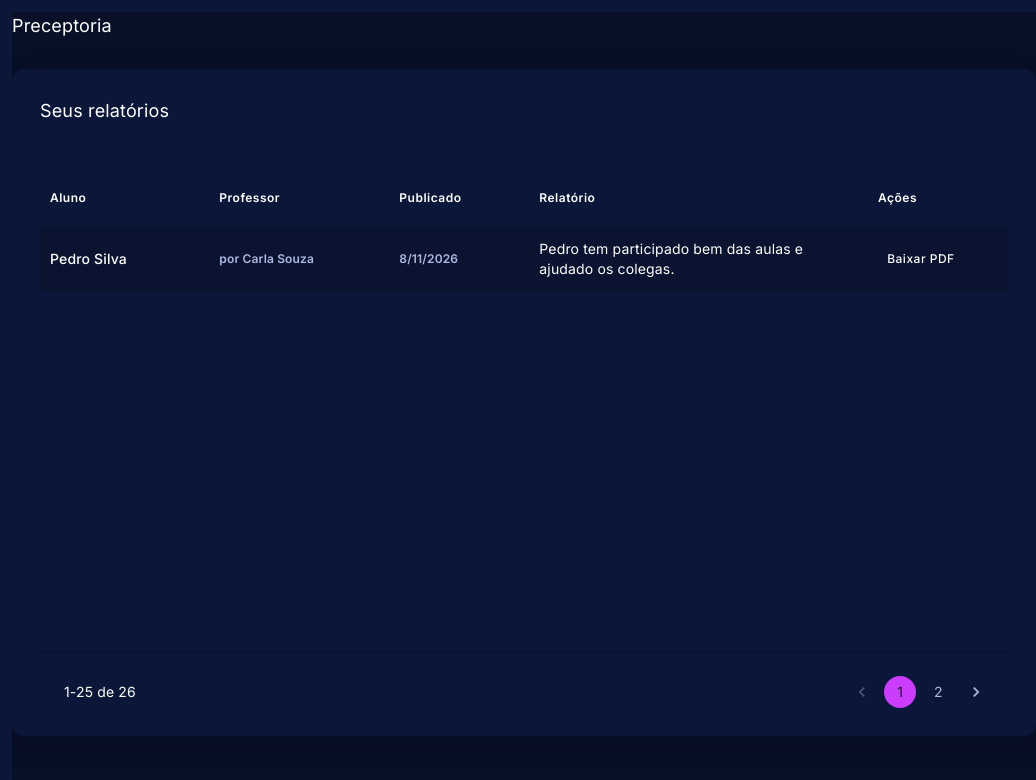
Test: Preceptorship, as the family reads it › asks for the next page and counts every published report
The width and height of the screenshot is (1036, 780).
Expected: the text "Pedro Silva" is shown, [50, 248, 127, 270]
Expected: the text "1-25 de 26" is shown, [64, 682, 136, 702]
What coordinates should you click on to do the following:
click the button named "go to page 2"
I would click on:
 (938, 692)
Its box is [922, 676, 954, 708].
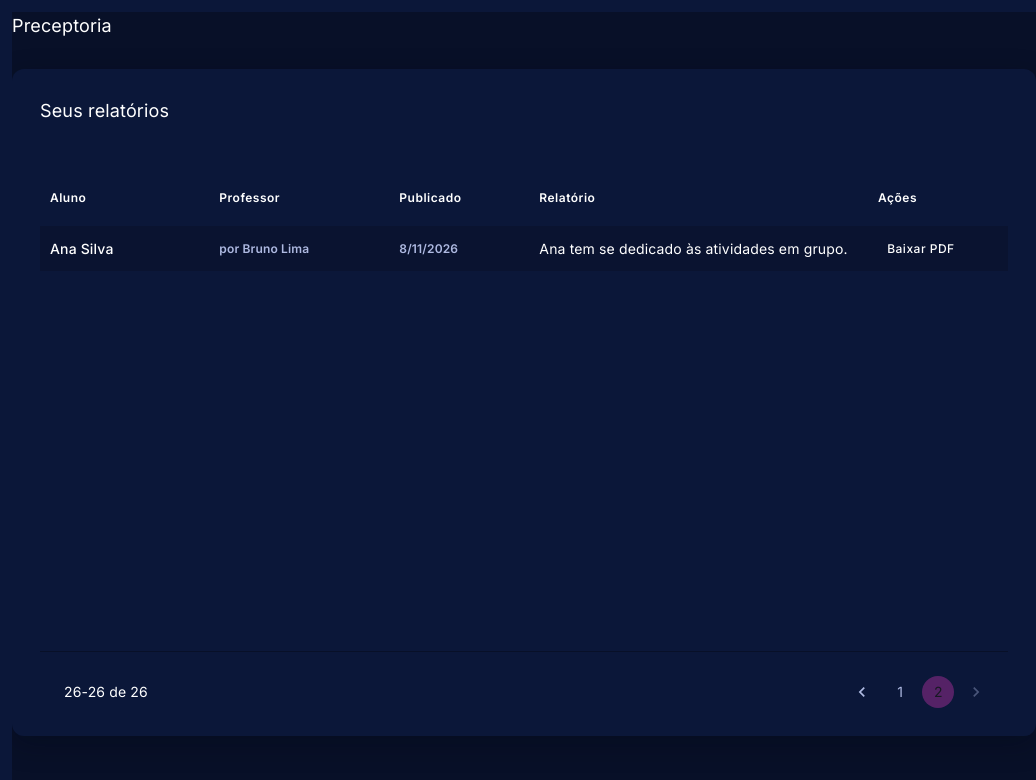
Expected: the text "Ana Silva" is shown, [50, 238, 114, 260]
